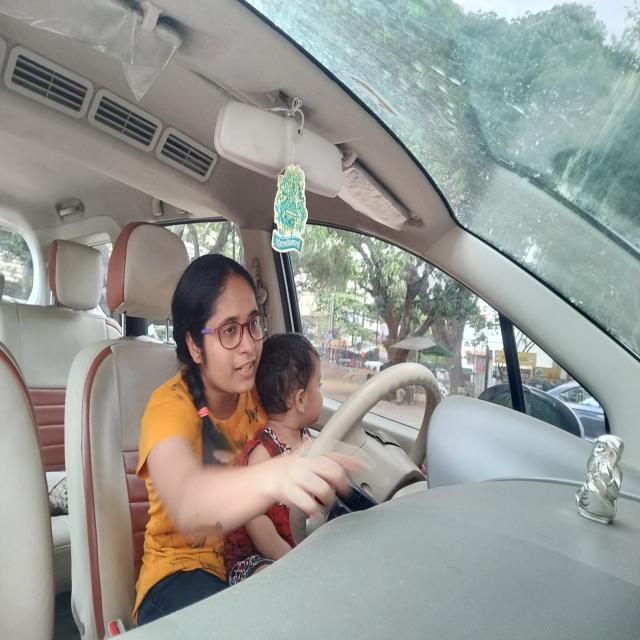person: (177, 262, 261, 398), (274, 340, 326, 429)
